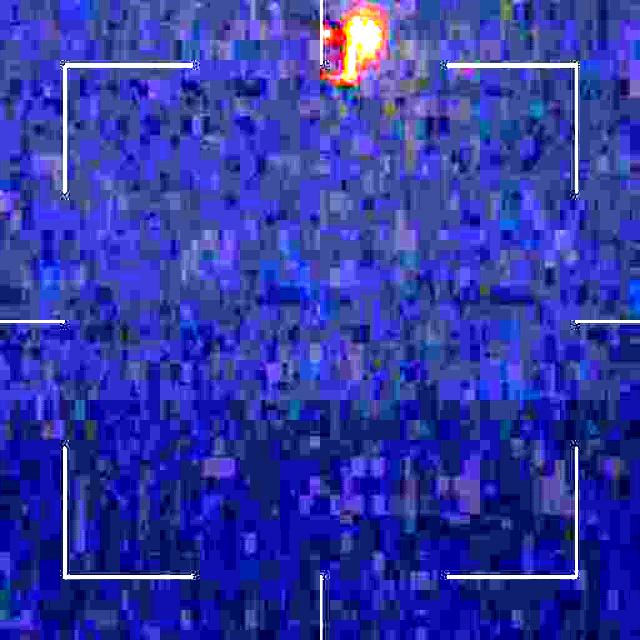bird: (300, 12, 375, 81)
